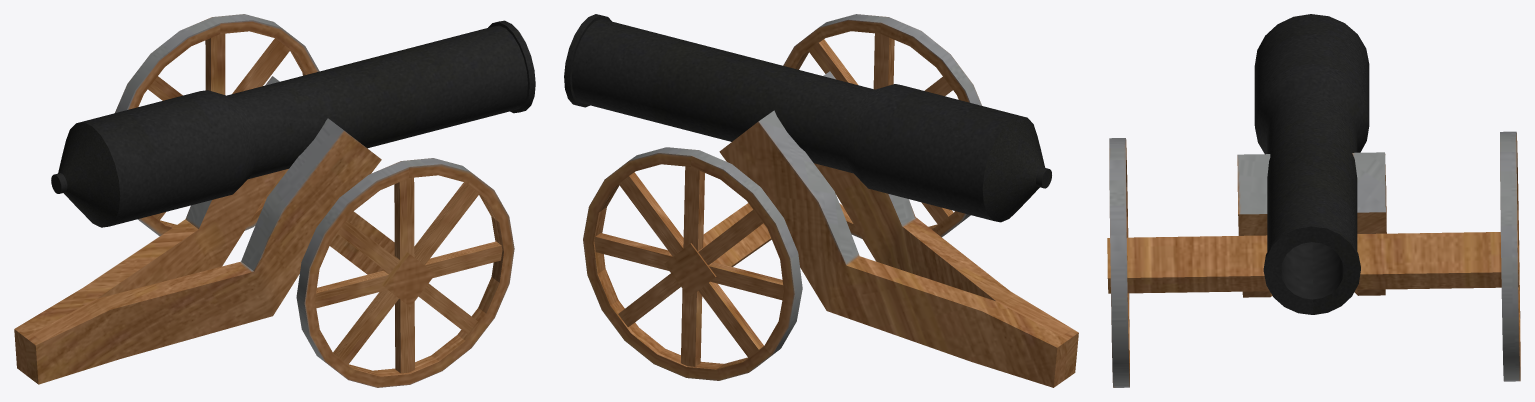
Rendered from cannon.fbx.
The picture shows the model from 3 angles, left to right: view 1: azimuth 30°, elevation 25°; view 2: azimuth 150°, elevation 25°; view 3: azimuth 270°, elevation 25°; orthographic projection. The views are drawn at different scales.
Parts seen in each view (by area): view 1: polySurface43; view 2: polySurface43; view 3: polySurface43.
Part boxes in pixels (x1,y1,x2,y2): polySurface43: [14, 14, 535, 387]; polySurface43: [564, 14, 1078, 387]; polySurface43: [1107, 14, 1520, 387].
Size of the model in its own units: 87.15 by 42.19 by 62.4.
